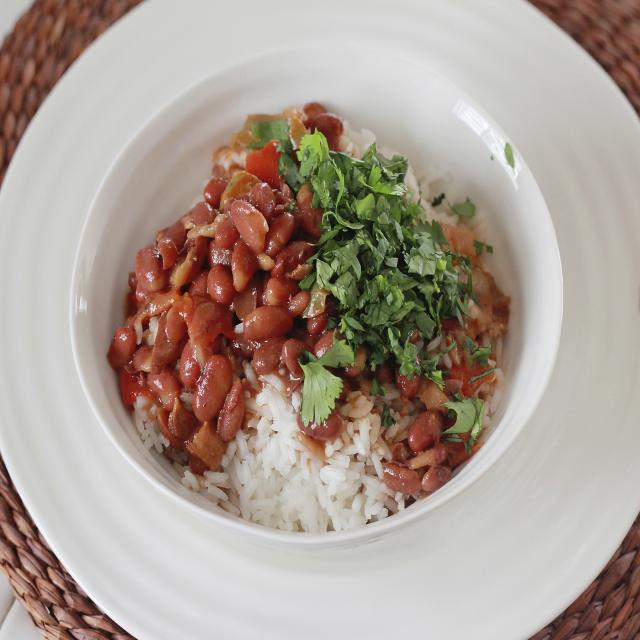arroz: (238, 368, 388, 544)
frijoles: (121, 166, 316, 425)
